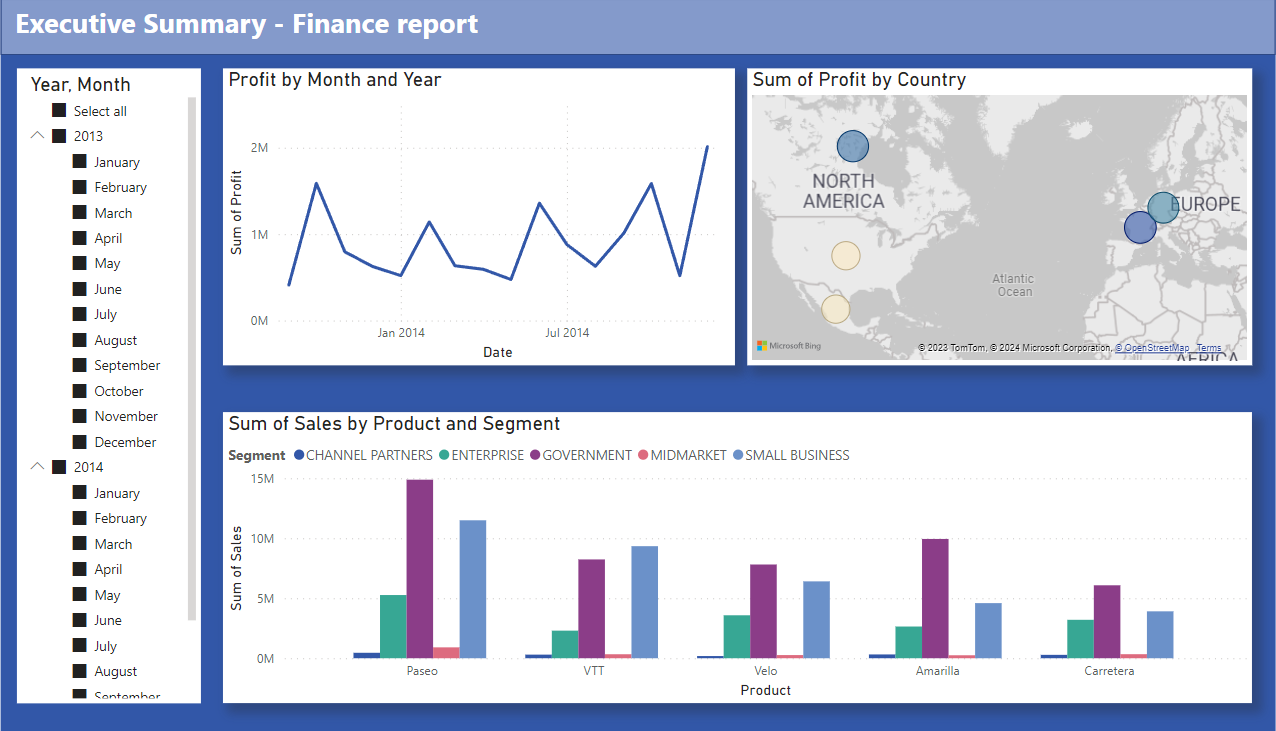

Layout of this report page (visuals, bound fields, positions):
{"tool":"powerbi","page":{"name":"Page 1","canvas":[1280,720],"ordinal":0},"visuals":[{"type":"shape","box":[213.3,67.8,1055.6,336.7],"z":1000},{"type":"shape","box":[30,0,1250,720],"z":2000},{"type":"shape","box":[30,0,1250,55],"z":2500},{"type":"lineChart","title":"Profit by Month and Year","fields":{"Category":["financials.Date"],"Y":["Sum(financials.Profit)"]},"box":[248,68,502,291],"z":3000},{"type":"map","fields":{"Category":["financials.Country"],"Size":["Sum(financials.Profit)"]},"box":[762,68,495,291],"z":4000},{"type":"textbox","box":[39,0,473,48],"z":5000},{"type":"clusteredColumnChart","fields":{"Y":["Sum(financials. Sales)"],"Category":["financials.Product"],"Series":["financials.Segment"]},"box":[248,405,1009,285],"z":6000},{"type":"slicer","fields":{"Values":["financials.Date.Variation.Date Hierarchy.Year","financials.Date.Variation.Date Hierarchy.Month"]},"box":[46,68,180,622],"z":7000}]}

Visuals, with their boxes in screenshot pixels (x1, y1, x2, y2), scaled from the page's 1280x720 canvas onto the 1276x731 screenshot:
shape: [213, 69, 1265, 411]
shape: [30, 0, 1275, 730]
shape: [30, 0, 1275, 56]
"Profit by Month and Year" lineChart: [247, 69, 748, 364]
map - financials.Country x Sum(financials.Profit): [760, 69, 1253, 364]
textbox: [39, 0, 510, 49]
clusteredColumnChart - Sum(financials. Sales) x financials.Product: [247, 411, 1253, 701]
slicer - financials.Date.Variation.Date Hierarchy.Year x financials.Date.Variation.Date Hierarchy.Month: [46, 69, 225, 701]
